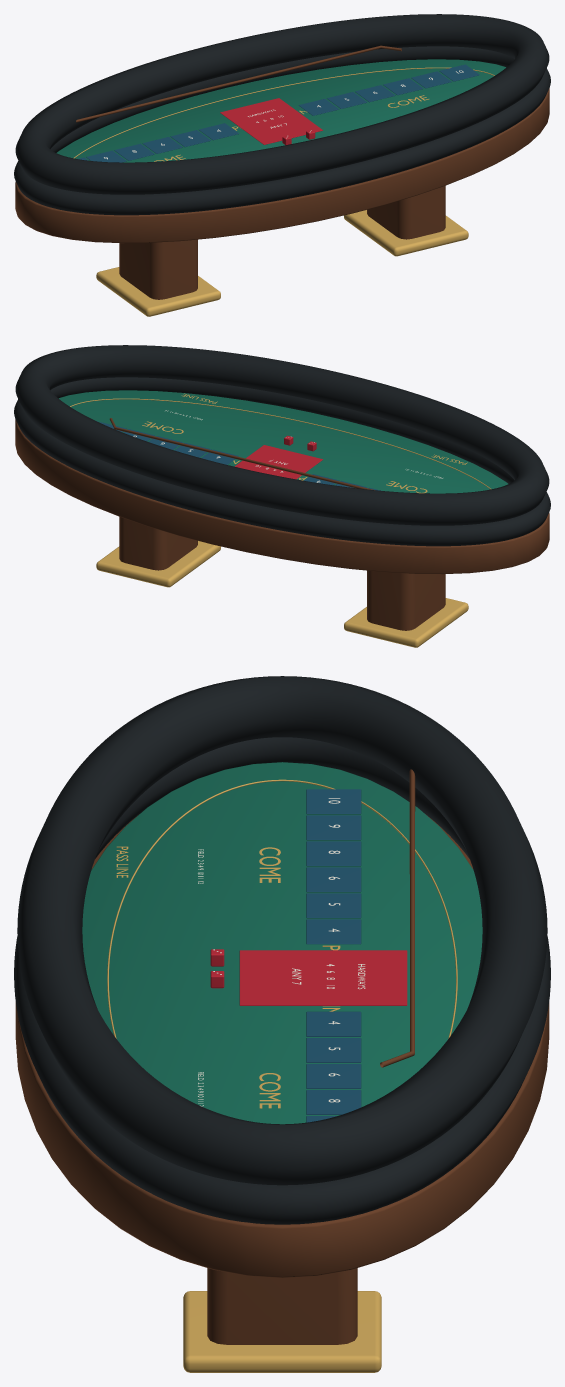
File: Craps.glb
3 renders of one model, top to bottom at view 1: azimuth 30°, elevation 25°; view 2: azimuth 150°, elevation 25°; view 3: azimuth 270°, elevation 25°, orthographic. The views are drawn at different scales.
Parts seen in each view (by area): view 1: Raised padded wall, Padded perimeter rail, Emerald playing surface, Walnut table cabinet, Pedestal, Pedestal.001, Proposition area, Pedestal brass shoe, Pedestal brass shoe.001, Croupier stick, Playing boundary, Number betting field.006 (+9 smaller); view 2: Raised padded wall, Emerald playing surface, Padded perimeter rail, Walnut table cabinet, Pedestal, Pedestal.001, Pedestal brass shoe, Pedestal brass shoe.001, Proposition area, Croupier stick, Playing boundary; view 3: Raised padded wall, Emerald playing surface, Padded perimeter rail, Walnut table cabinet, Pedestal.001, Proposition area, Pedestal brass shoe.001, Croupier stick, Playing boundary, Number betting field, Number betting field.001, Number betting field.005 (+7 smaller).
Boxes of the visible parts, left/top/right/bottom form: Raised padded wall: left=15, top=14, right=549, bottom=194; Padded perimeter rail: left=14, top=46, right=550, bottom=215; Emerald playing surface: left=56, top=59, right=505, bottom=162; Walnut table cabinet: left=15, top=88, right=549, bottom=243; Pedestal: left=119, top=239, right=197, bottom=299; Pedestal.001: left=367, top=185, right=445, bottom=239; Proposition area: left=220, top=98, right=322, bottom=144; Pedestal brass shoe: left=96, top=267, right=220, bottom=316; Pedestal brass shoe.001: left=344, top=210, right=468, bottom=256; Croupier stick: left=76, top=45, right=401, bottom=122; Playing boundary: left=73, top=67, right=494, bottom=158; Number betting field.006: left=298, top=99, right=339, bottom=115; Raised padded wall: left=15, top=345, right=549, bottom=525; Emerald playing surface: left=59, top=390, right=508, bottom=493; Padded perimeter rail: left=14, top=377, right=550, bottom=546; Walnut table cabinet: left=15, top=419, right=549, bottom=574; Pedestal: left=367, top=570, right=445, bottom=630; Pedestal.001: left=119, top=516, right=197, bottom=570; Pedestal brass shoe: left=344, top=598, right=468, bottom=647; Pedestal brass shoe.001: left=96, top=541, right=220, bottom=587; Proposition area: left=235, top=445, right=322, bottom=479; Croupier stick: left=109, top=418, right=374, bottom=490; Playing boundary: left=70, top=398, right=491, bottom=489; Raised padded wall: left=17, top=676, right=547, bottom=1185; Emerald playing surface: left=82, top=762, right=482, bottom=1124; Padded perimeter rail: left=14, top=737, right=550, bottom=1224; Walnut table cabinet: left=15, top=814, right=549, bottom=1277; Pedestal.001: left=207, top=1268, right=357, bottom=1344; Proposition area: left=239, top=950, right=407, bottom=1005; Pedestal brass shoe.001: left=183, top=1291, right=381, bottom=1372; Croupier stick: left=380, top=769, right=415, bottom=1067; Playing boundary: left=107, top=779, right=457, bottom=1038; Number betting field: left=306, top=919, right=361, bottom=944; Number betting field.001: left=306, top=893, right=361, bottom=918; Number betting field.005: left=306, top=789, right=361, bottom=814.
Size of the model in its own units: 3.31 by 1.05 by 1.57.
